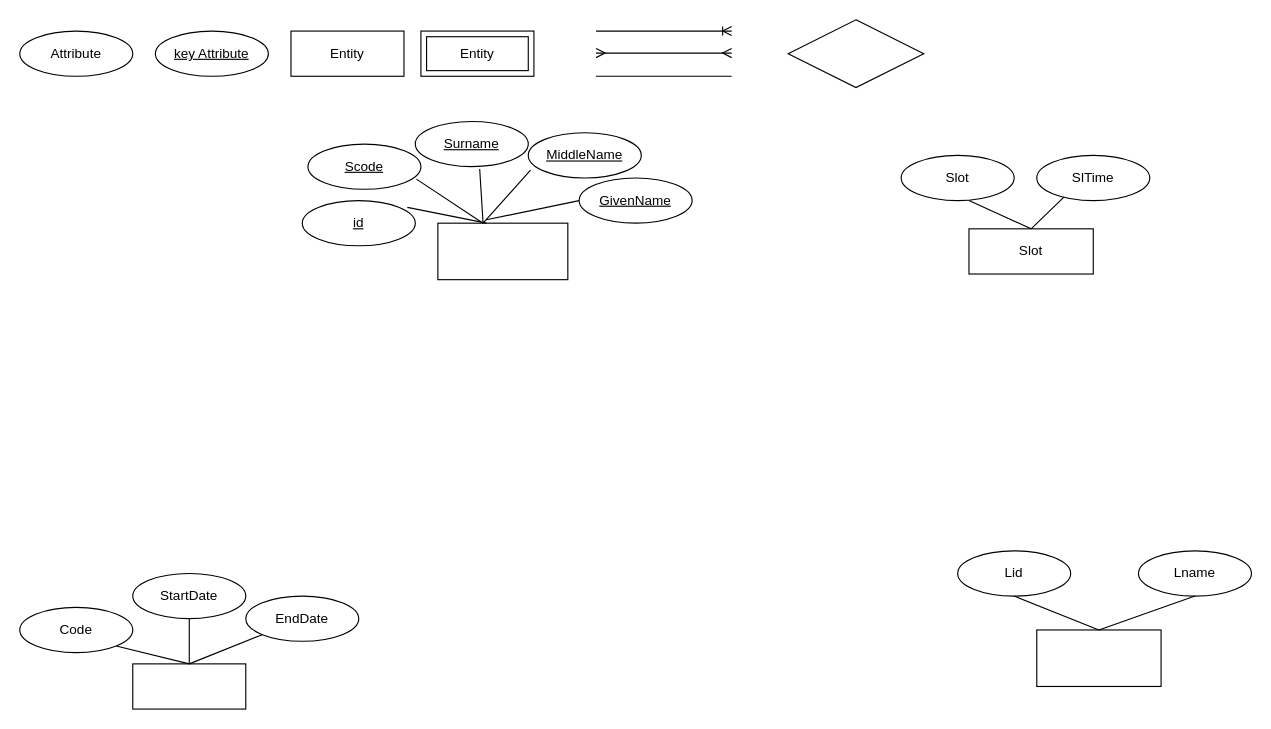
Some shapes in this 1271 by 729 pixel diagram are drawn without their labels. The centre of each missing label's shape, as x and y in pixels:
Course: (189,686)
Lecture: (1098,657)
Relationship: (855,53)
Student: (502,251)
